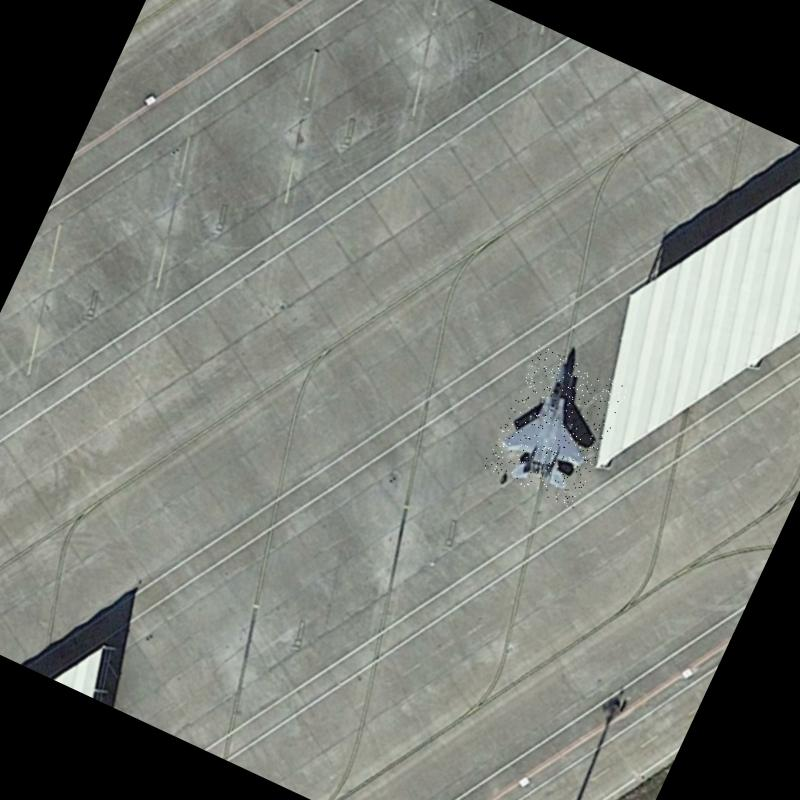A13: (481, 344, 630, 509)
